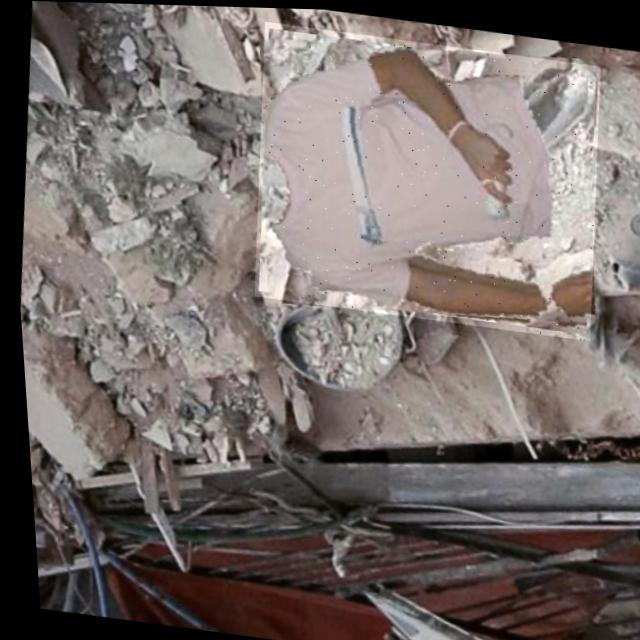Person in Rubble: (236, 18, 614, 336)
